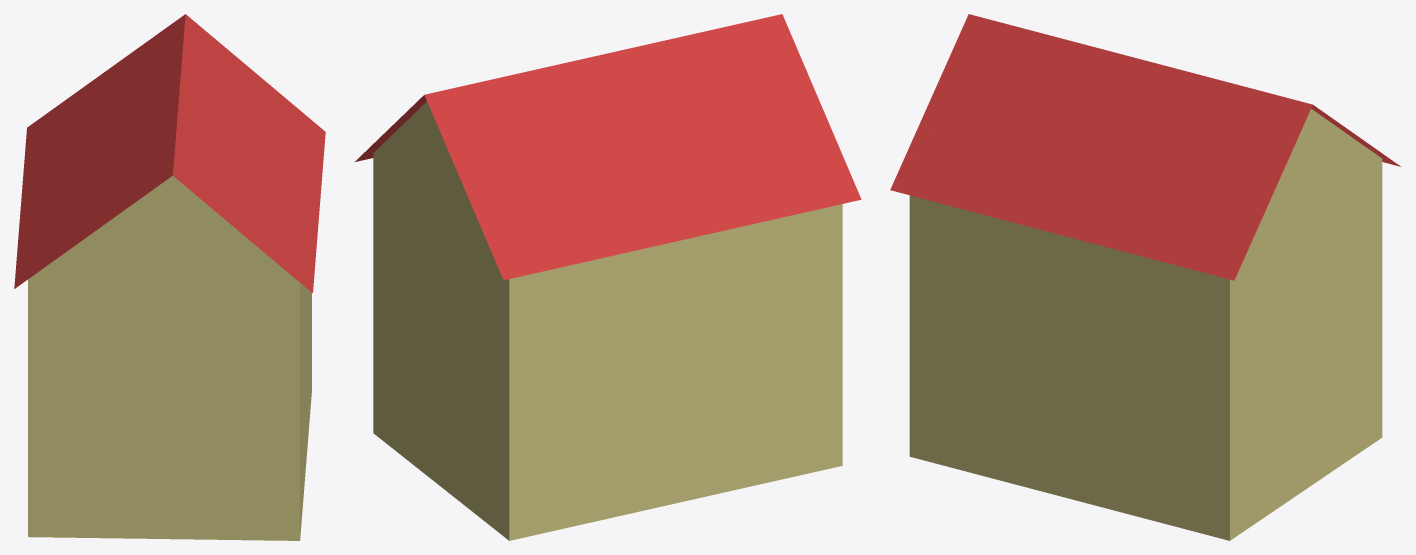
3 renders of one model, left to right at view 1: azimuth 30°, elevation 25°; view 2: azimuth 150°, elevation 25°; view 3: azimuth 270°, elevation 25°, orthographic. The views are drawn at different scales.
Size of the model in its own units: 17.16 by 18.17 by 15.33.
